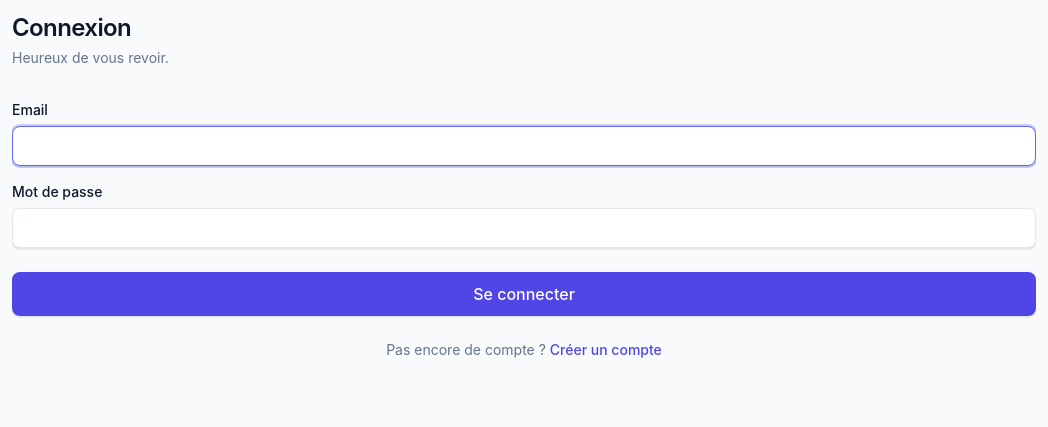
Test: LoginPage › affiche l’erreur d’identifiants renvoyée par l’API
The image size is (1048, 427).
Type "alice@test.dev" into the field labelled "Email" at [524, 146], box [12,126,1036,166]
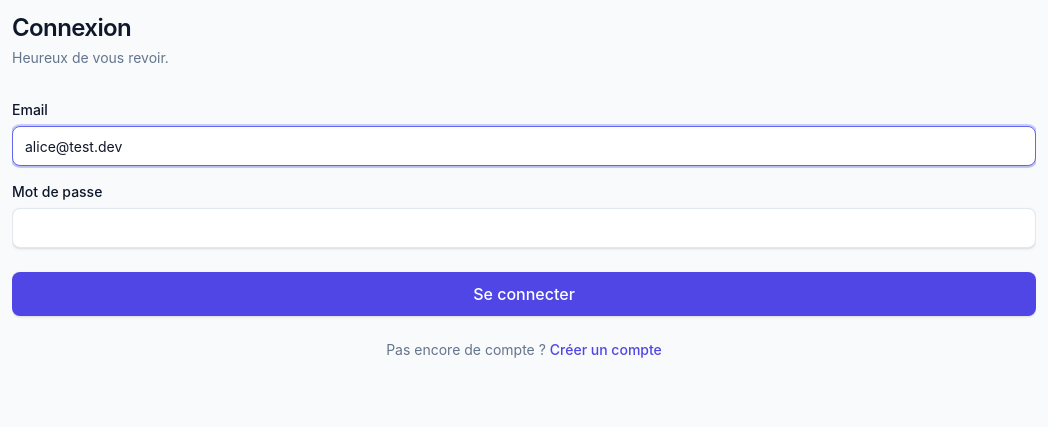
Type "mauvais" into the password field labelled "Mot de passe" at [524, 228], box [12,208,1036,248]
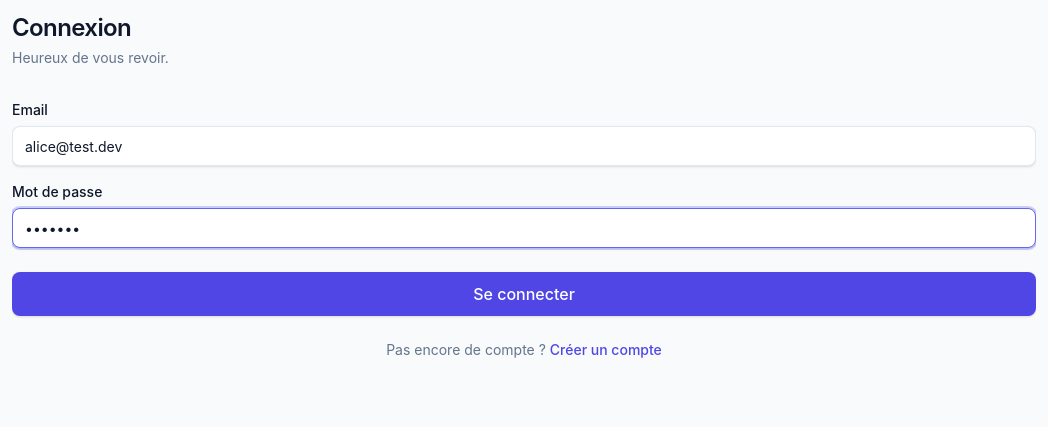
Click the button "Se connecter" at [524, 294], box [12,272,1036,316]
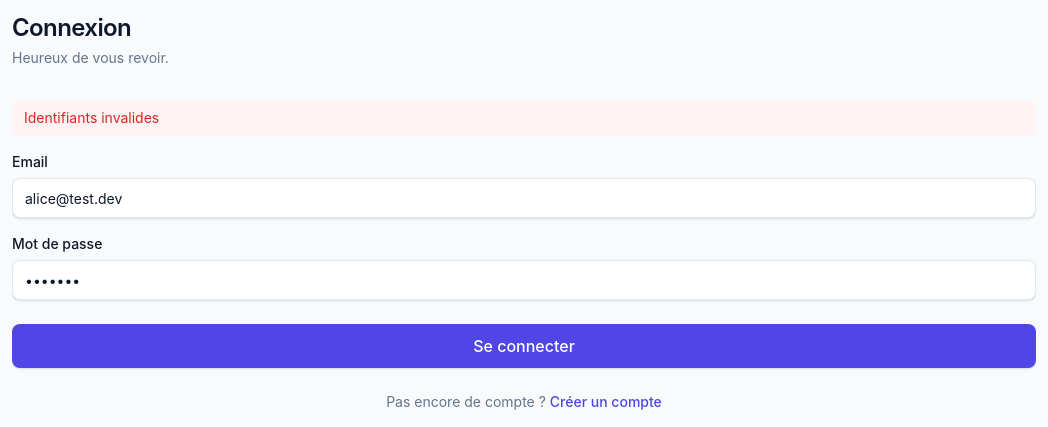
Result: the message reads "Identifiants invalides" at [24,109,159,126]
